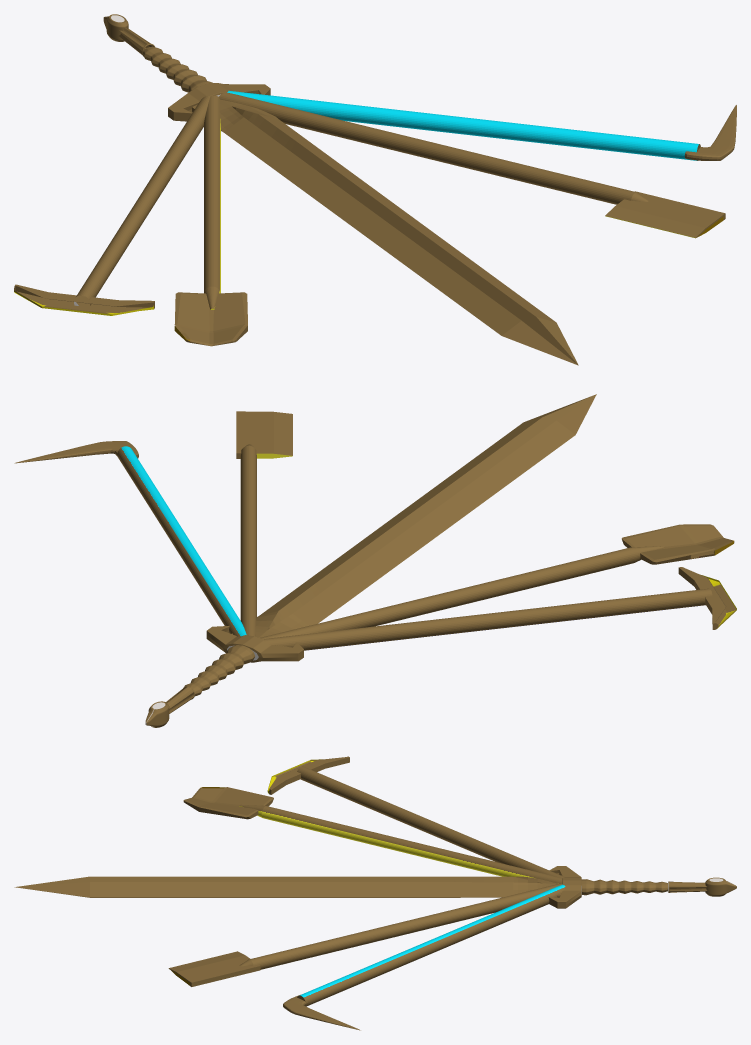
The model's file is multi_tool.obj.
3 renders of one model, top to bottom at view 1: azimuth 30°, elevation 25°; view 2: azimuth 150°, elevation 25°; view 3: azimuth 270°, elevation 25°, orthographic. The views are drawn at different scales.
Visible parts, largest first — view 1: Blade_Cube, Cylinder.007, Cylinder.006, Cylinder.005, Sovel_Cube.001, Cylinder.004, Cube.001_Cube.003, Cube_Cube.002, Cylinder_Cylinder.001, Cylinder.001_Cylinder, Cube.002_Cube.004; view 2: Blade_Cube, Cylinder.005, Cylinder.004, Cylinder.007, Cylinder.006, Sovel_Cube.001, Cube.001_Cube.003, Cylinder_Cylinder.001, Cylinder.001_Cylinder, Cube_Cube.002, Cube.002_Cube.004; view 3: Blade_Cube, Cylinder.004, Cylinder.006, Cylinder.007, Cylinder.005, Sovel_Cube.001, Cube.001_Cube.003, Cylinder.001_Cylinder, Cube_Cube.002, Cylinder_Cylinder.001, Cube.002_Cube.004, Cylinder.003.
Part boxes in pixels (<box>): Blade_Cube: <box>192,99,578,365</box>; Cylinder.007: <box>227,90,700,160</box>; Cylinder.006: <box>219,92,648,204</box>; Cylinder.005: <box>74,96,210,305</box>; Sovel_Cube.001: <box>174,292,247,346</box>; Cylinder.004: <box>204,95,220,309</box>; Cube.001_Cube.003: <box>605,191,725,238</box>; Cube_Cube.002: <box>14,284,154,315</box>; Cylinder_Cylinder.001: <box>168,83,270,121</box>; Cylinder.001_Cylinder: <box>143,46,213,92</box>; Cube.002_Cube.004: <box>684,105,736,160</box>; Blade_Cube: <box>232,394,596,646</box>; Cylinder.005: <box>263,588,712,650</box>; Cylinder.004: <box>260,546,663,639</box>; Cylinder.007: <box>117,446,246,636</box>; Cylinder.006: <box>240,444,256,636</box>; Sovel_Cube.001: <box>621,524,734,564</box>; Cube.001_Cube.003: <box>236,411,292,458</box>; Cylinder_Cylinder.001: <box>206,625,303,662</box>; Cylinder.001_Cylinder: <box>184,645,254,696</box>; Cube_Cube.002: <box>678,567,736,629</box>; Cube.002_Cube.004: <box>14,441,138,463</box>; Blade_Cube: <box>14,875,561,897</box>; Cylinder.004: <box>239,804,562,883</box>; Cylinder.006: <box>239,883,562,969</box>; Cylinder.007: <box>297,884,565,1006</box>; Cylinder.005: <box>297,766,564,878</box>; Sovel_Cube.001: <box>183,787,273,819</box>; Cube.001_Cube.003: <box>168,951,260,986</box>; Cylinder.001_Cylinder: <box>581,879,667,895</box>; Cube_Cube.002: <box>267,756,349,794</box>; Cylinder_Cylinder.001: <box>548,866,581,908</box>; Cube.002_Cube.004: <box>283,994,360,1030</box>; Cylinder.003: <box>705,877,736,896</box>.
Size of the model in its own units: 69.2 by 1.88 by 77.71.
